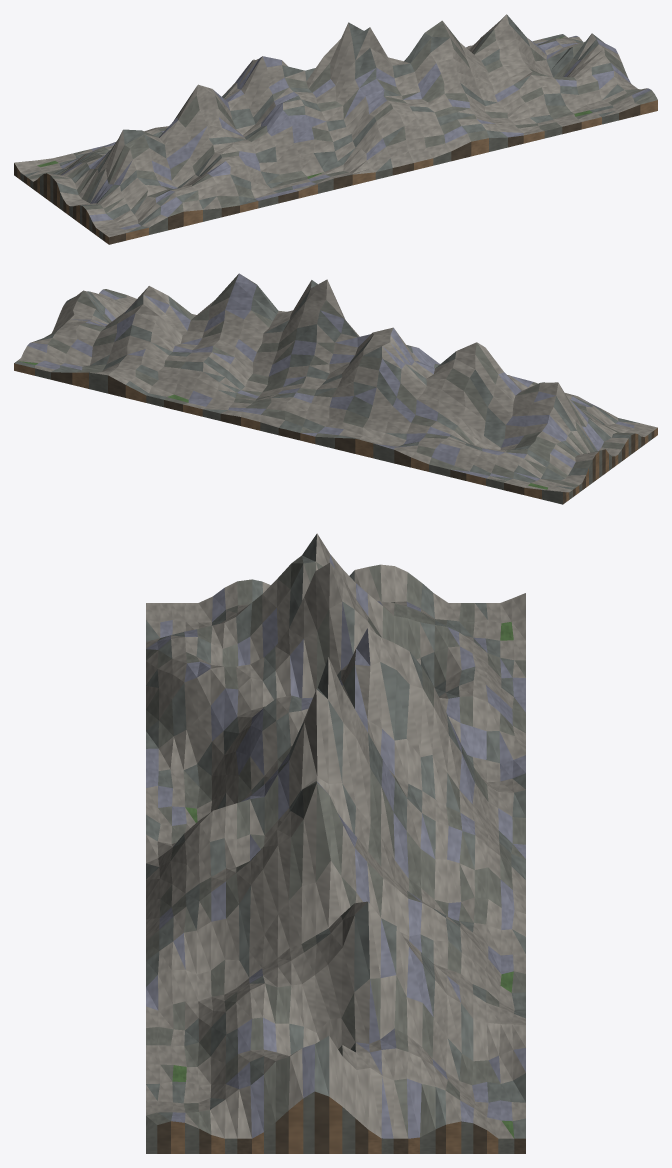
File: ridge_rocky.fbx
The picture shows the model from 3 angles, top to bottom: view 1: azimuth 30°, elevation 25°; view 2: azimuth 150°, elevation 25°; view 3: azimuth 270°, elevation 25°; orthographic projection. The views are drawn at different scales.
Parts seen in each view (by area): view 1: ridge_rocky; view 2: ridge_rocky; view 3: ridge_rocky.
Boxes of the visible parts, x1,y1,x2,y2 form: ridge_rocky: (14,14,657,244); ridge_rocky: (14,273,657,504); ridge_rocky: (146,533,525,1153).
Bounding box in the file's own units: 6000 × 1250 × 1800.
1 material, 1 textured.
